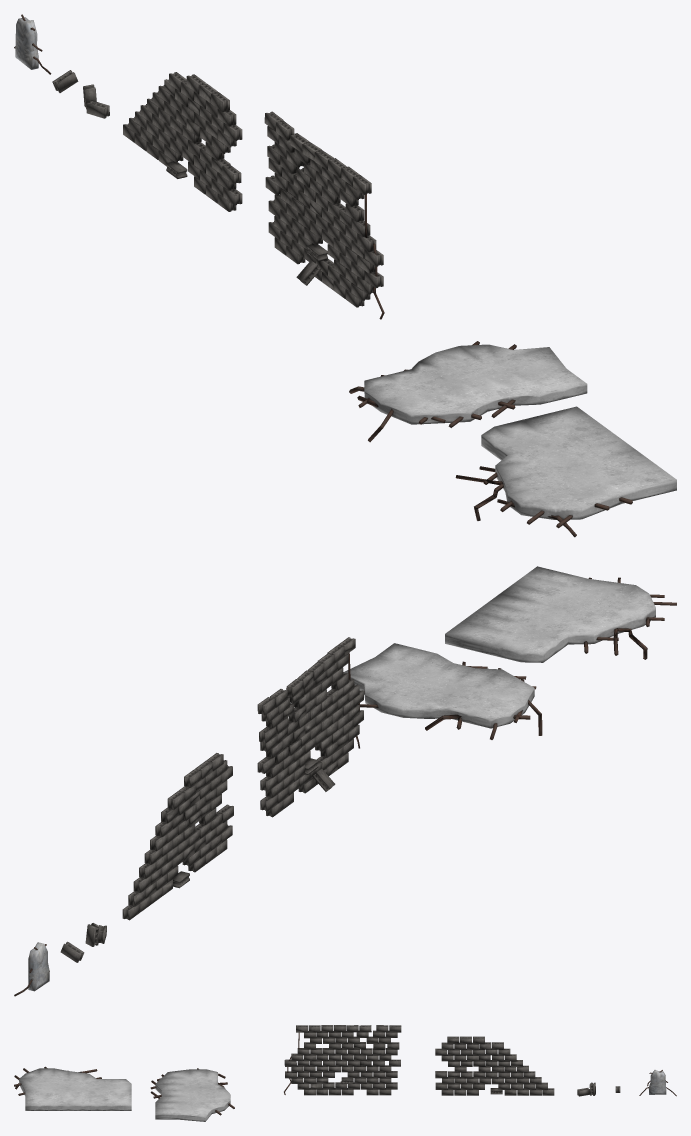
The model's file is blockwall.fbx.
3 renders of one model, top to bottom at view 1: azimuth 30°, elevation 25°; view 2: azimuth 150°, elevation 25°; view 3: azimuth 270°, elevation 25°, orthographic. The views are drawn at different scales.
Visible parts, largest first — view 1: flooeB, wallA, floorA, wallB, blockboad; view 2: flooeB, wallA, floorA, wallB, blockboad; view 3: wallA, wallB, flooeB, floorA, blockboad, block2.
Part boxes in pixels (x1,y1,x2,y2): flooeB: [455, 406, 676, 537]; wallA: [264, 111, 384, 319]; floorA: [349, 341, 587, 442]; wallB: [123, 72, 242, 211]; blockboad: [14, 14, 51, 74]; flooeB: [445, 566, 676, 662]; wallA: [257, 637, 364, 817]; floorA: [344, 643, 542, 739]; wallB: [122, 753, 233, 920]; blockboad: [14, 942, 49, 996]; wallA: [284, 1025, 401, 1095]; wallB: [435, 1036, 554, 1095]; flooeB: [14, 1066, 131, 1110]; floorA: [150, 1068, 234, 1121]; blockboad: [639, 1070, 676, 1096]; block2: [577, 1082, 595, 1096].
Bounding box in the file's own units: 3.96 × 2.94 × 21.1.
Materials: 1 (1 with a texture image).
